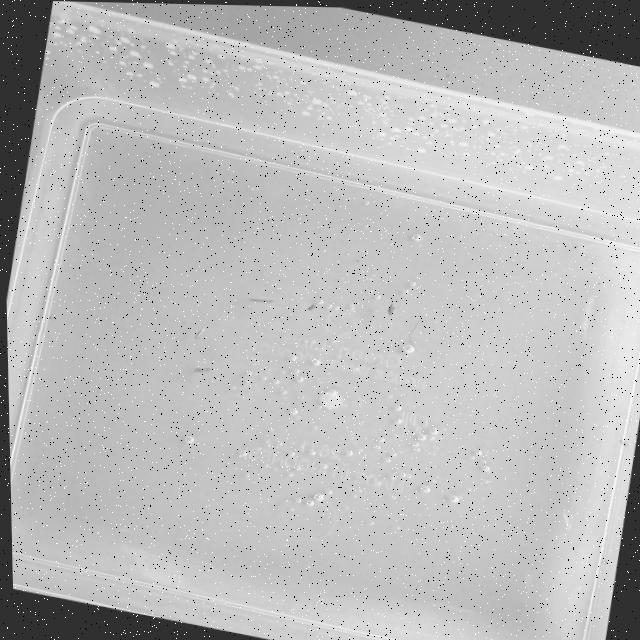Wereng: (239, 287, 281, 309), (294, 290, 327, 317), (182, 354, 218, 378), (184, 320, 211, 345), (380, 294, 398, 318)
